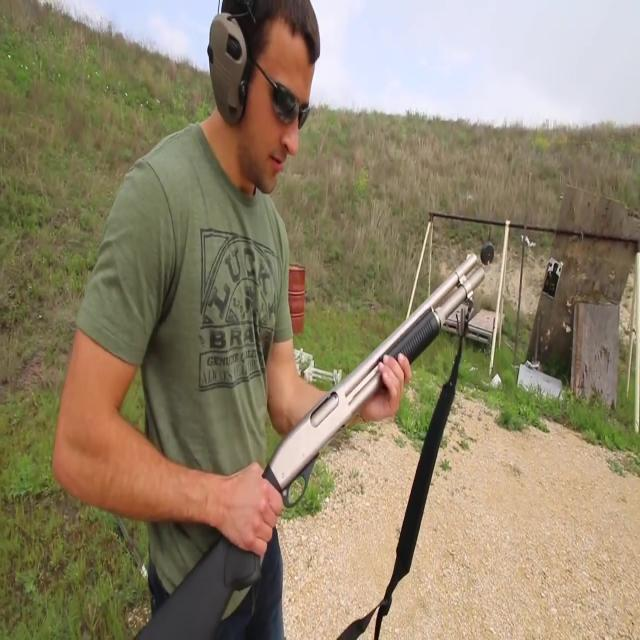Weapon: (125, 246, 519, 640)
